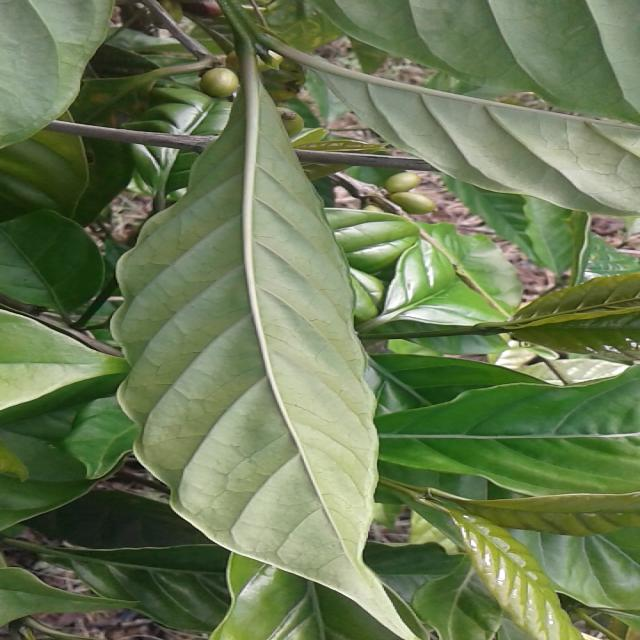Sanas: (111, 90, 420, 640)
